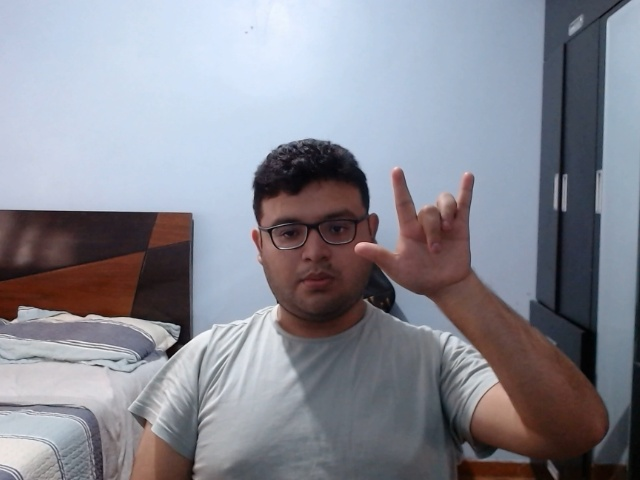I love you: (354, 164, 481, 297)
